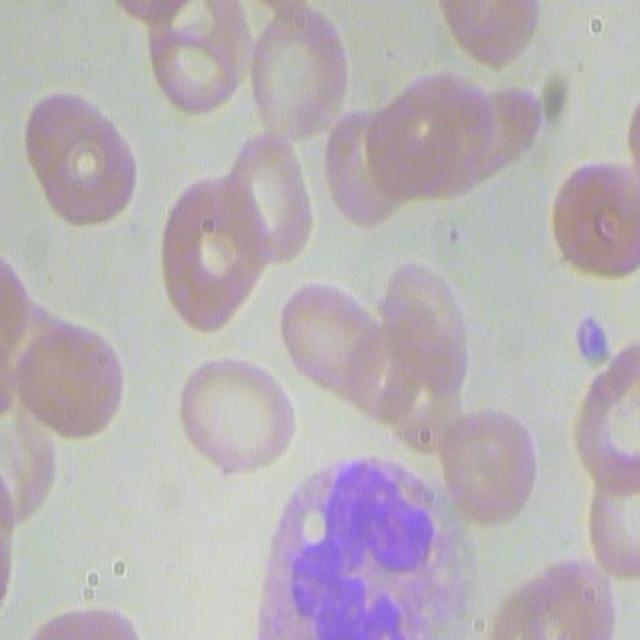RBC: (376, 65, 518, 208), (154, 171, 267, 329), (234, 3, 350, 146), (21, 88, 136, 232), (278, 274, 394, 413), (9, 313, 126, 441), (178, 352, 294, 479), (144, 1, 256, 123), (438, 405, 539, 533), (372, 255, 473, 379), (227, 132, 311, 268), (546, 157, 638, 276), (493, 557, 621, 640), (319, 105, 405, 228), (573, 343, 640, 487), (15, 585, 166, 640), (586, 448, 640, 584), (437, 0, 540, 67), (0, 406, 53, 524)
WBC: (261, 444, 442, 640)
platelets: (574, 308, 613, 365)
